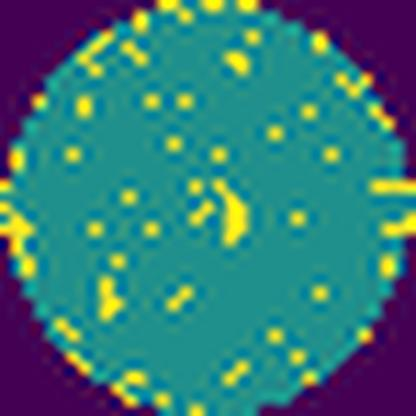Center: (206, 174, 250, 251)
